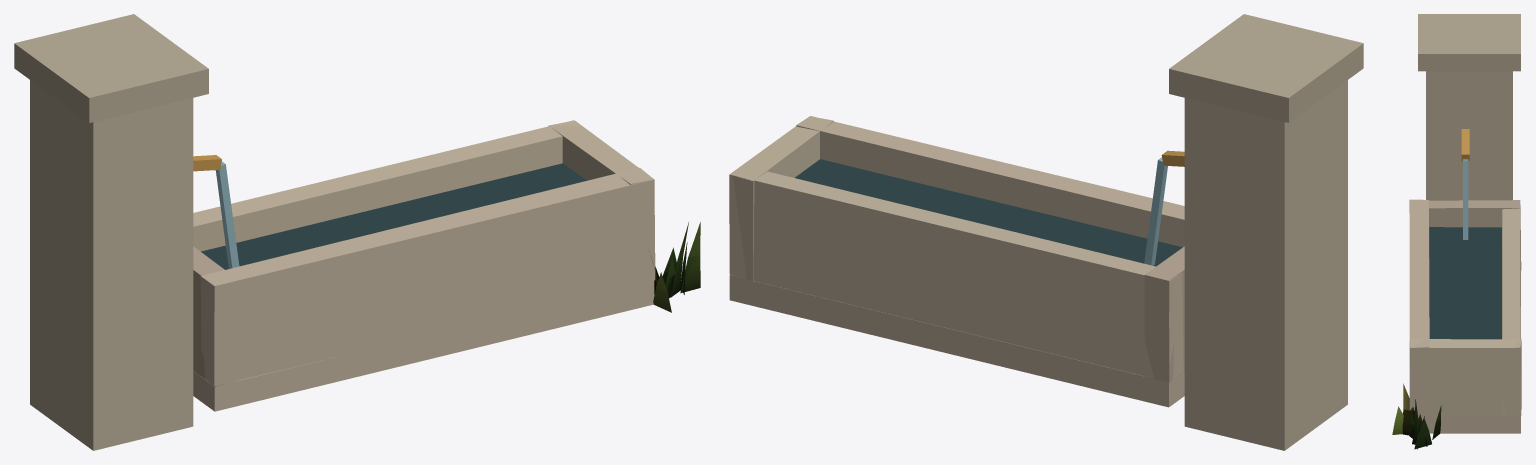
File: abrevadero.glb
The picture shows the model from 3 angles, left to right: view 1: azimuth 30°, elevation 25°; view 2: azimuth 150°, elevation 25°; view 3: azimuth 270°, elevation 25°; orthographic projection. The views are drawn at different scales.
Parts seen in each view (by area): view 1: abrevadero_fijo, abrevadero_vegetacion; view 2: abrevadero_fijo; view 3: abrevadero_fijo, abrevadero_vegetacion.
Boxes of the visible parts, bbox=[...] form: abrevadero_fijo: bbox=[14, 14, 655, 450]; abrevadero_vegetacion: bbox=[649, 222, 700, 312]; abrevadero_fijo: bbox=[729, 14, 1363, 450]; abrevadero_fijo: bbox=[1409, 14, 1521, 433]; abrevadero_vegetacion: bbox=[1392, 383, 1441, 449].
Size of the model in its own units: 3.06 by 1.72 by 0.8181.
